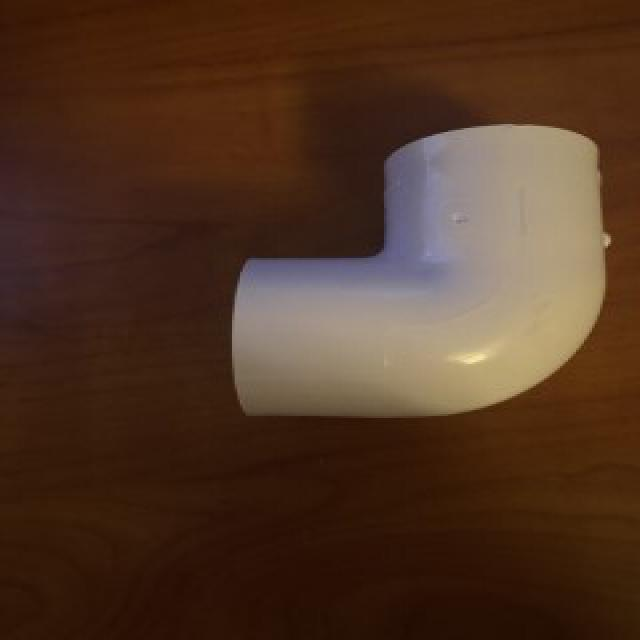L Joint: (230, 125, 611, 421)
